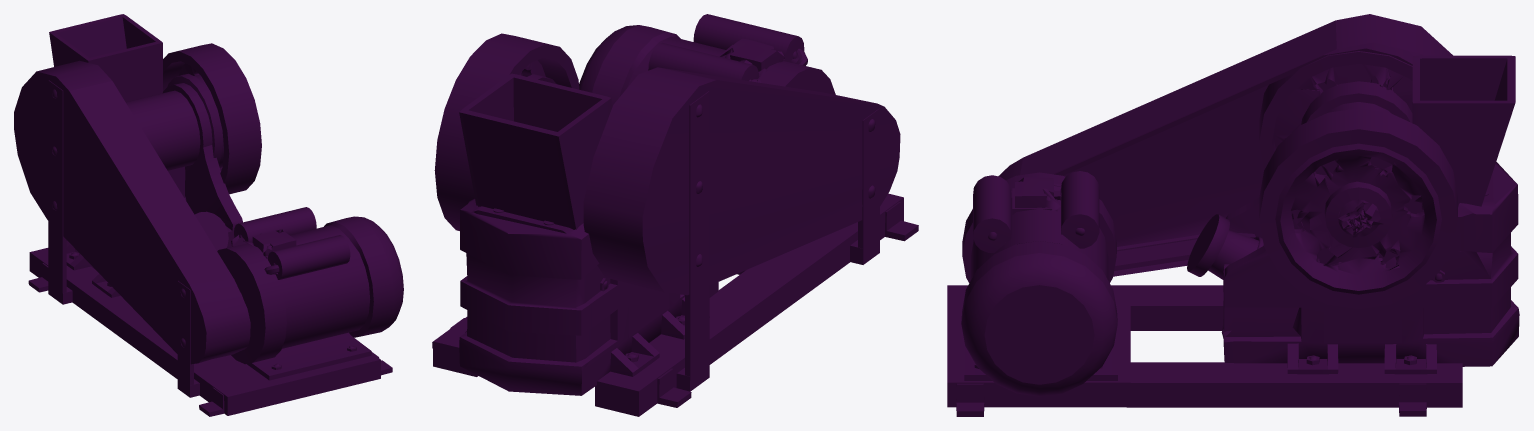
File: cage03.obj
3 views of the same model, side by side, from view 1: azimuth 30°, elevation 25°; view 2: azimuth 150°, elevation 25°; view 3: azimuth 270°, elevation 25° (orthographic). The views are drawn at different scales.
Parts seen in each view (by area): view 1: polySurface436; view 2: polySurface436; view 3: polySurface436.
Boxes of the visible parts, <box> form: polySurface436: <box>14,14,403,416</box>; polySurface436: <box>432,14,918,416</box>; polySurface436: <box>947,14,1519,416</box>.
Size of the model in its own units: 5.8 by 6.05 by 10.81.
